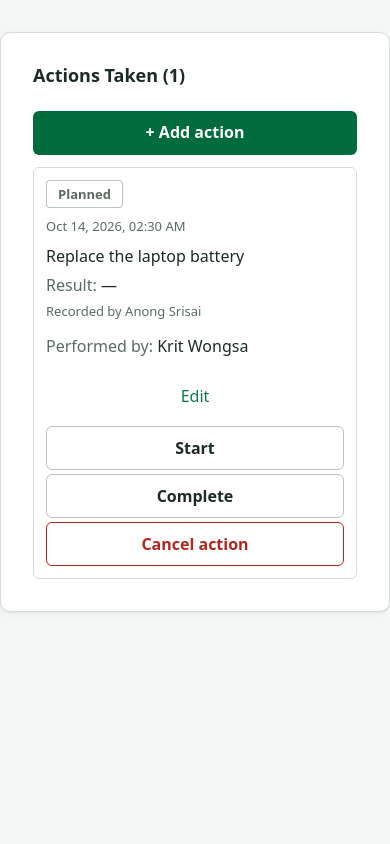
Test: UI-05: Start and Complete › starts with the stored version
Click the menu item "Start" at (195, 448), box 46,426 -> 344,470
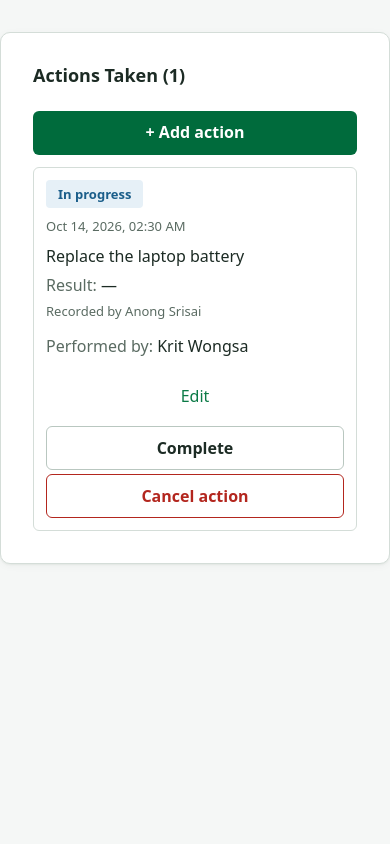
expect the text "In progress" is shown: met, box 46,180 -> 143,208
